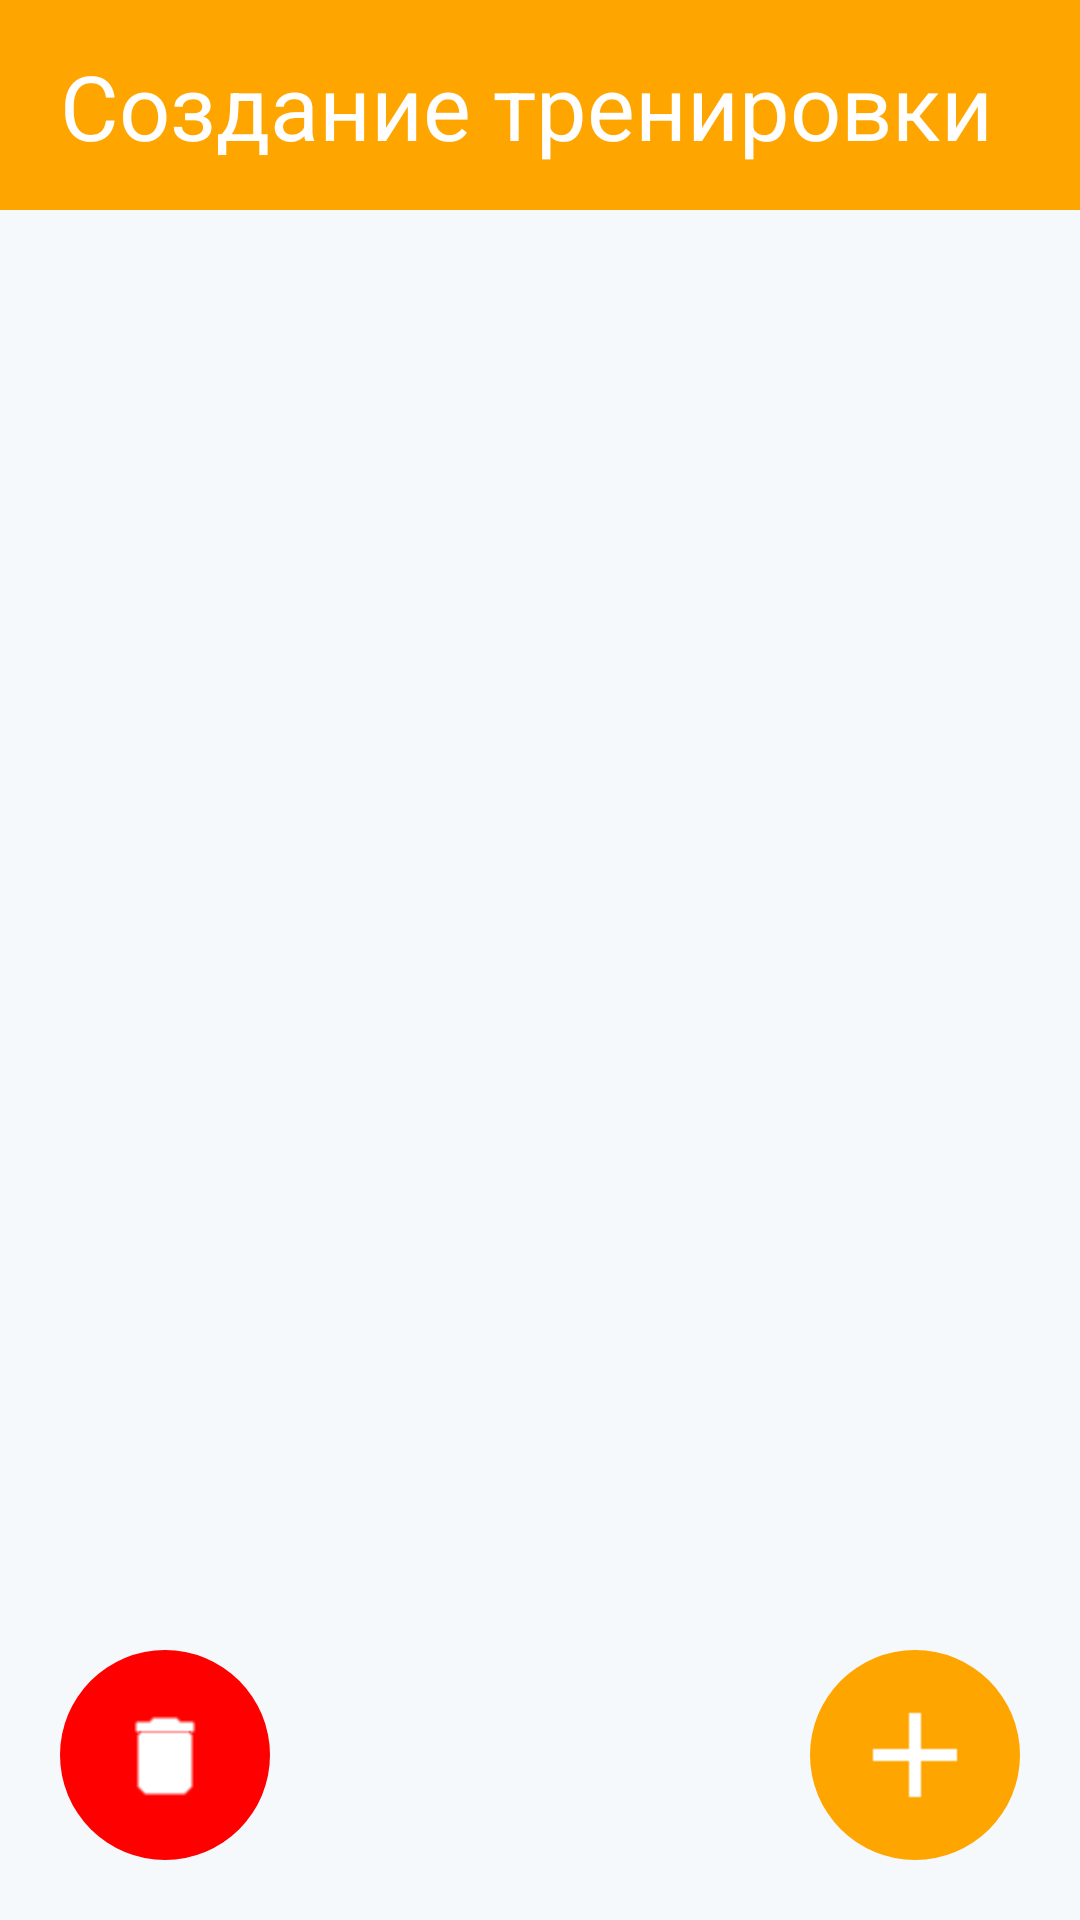

Locate icon controls on the screen. Image size 1080w x 1920h, boxes as (x1, y1, x2, y2).
delete: (60, 1650, 270, 1860)
